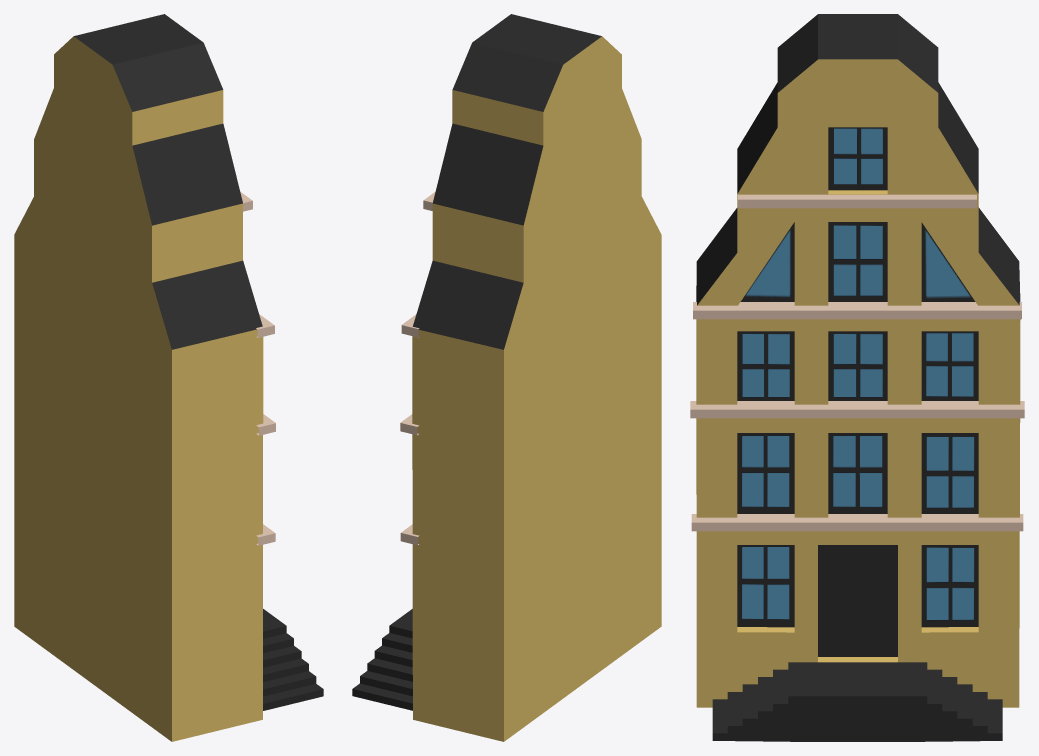
File: HighYellow.obj
The picture shows the model from 3 angles, left to right: view 1: azimuth 30°, elevation 25°; view 2: azimuth 150°, elevation 25°; view 3: azimuth 270°, elevation 25°; orthographic projection. The views are drawn at different scales.
Visible parts, largest first — view 1: WysokiZolty; view 2: WysokiZolty; view 3: WysokiZolty.
Boxes of the visible parts, x1,y1,x2,y2 form: WysokiZolty: (14, 14, 323, 741); WysokiZolty: (352, 14, 661, 741); WysokiZolty: (690, 14, 1024, 741).
Bounding box in the file's own units: 3.5 × 13.31 × 6.21.
